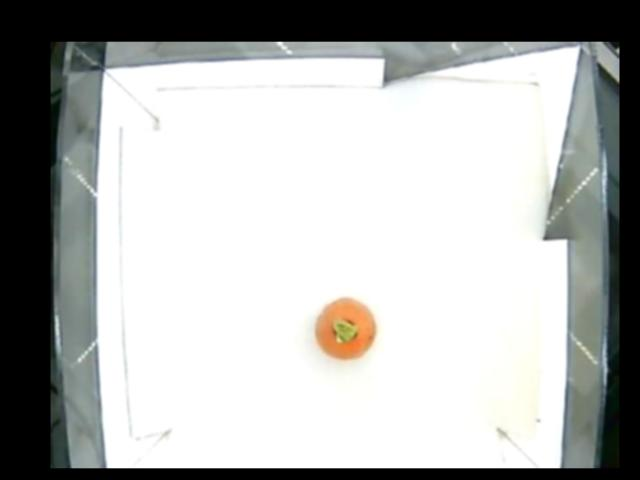Carrot: (314, 296, 374, 358)
